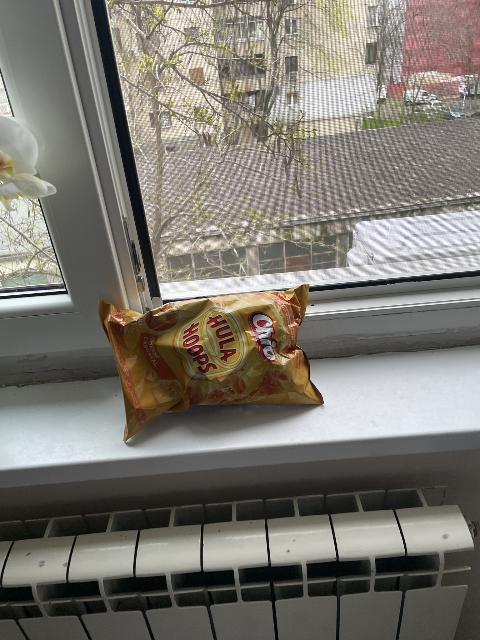Chio Hula Hoops Cheese 70g: (100, 286, 323, 439)
